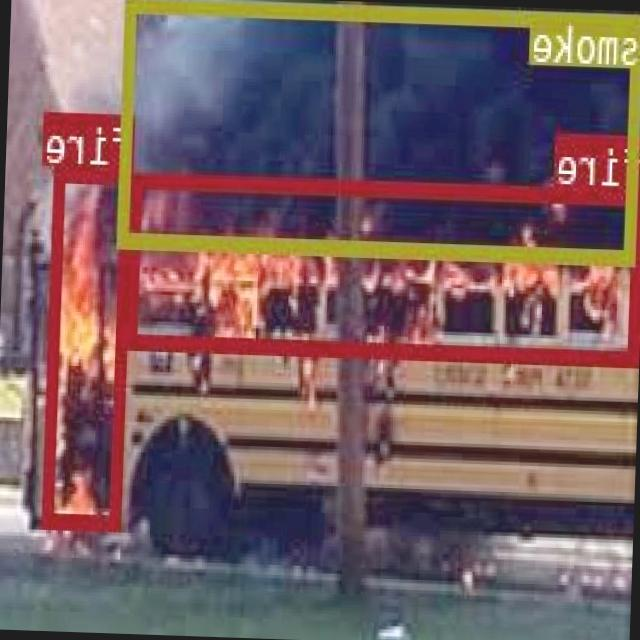fire: (129, 170, 640, 363), (44, 165, 134, 527)
smoke: (119, 0, 640, 262)
